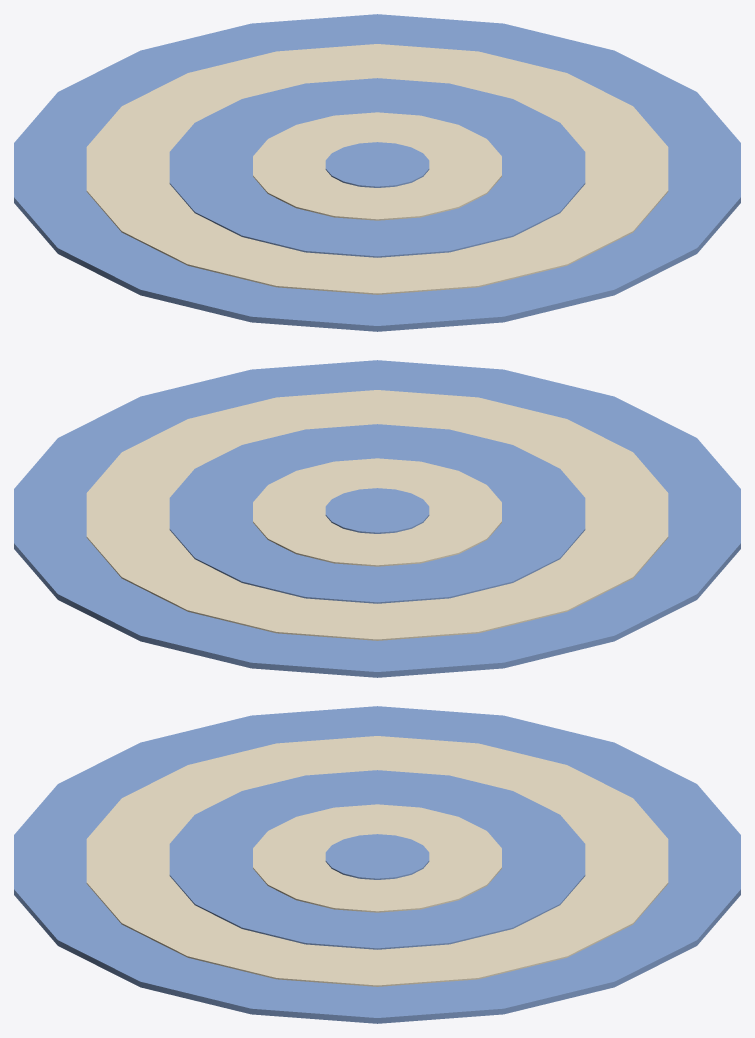
The model's file is rug_round.glb.
3 views of the same model, one above another, from view 1: azimuth 30°, elevation 25°; view 2: azimuth 150°, elevation 25°; view 3: azimuth 270°, elevation 25° (orthographic).
Visible parts, largest first — view 1: rug_round; view 2: rug_round; view 3: rug_round.
Part boxes in pixels (left/top/right/bottom): rug_round: left=14, top=14, right=740, bottom=331; rug_round: left=14, top=360, right=740, bottom=677; rug_round: left=14, top=706, right=740, bottom=1023.
Bounding box in the file's own units: 1.4 × 0.024 × 1.38.
Materials: 1 (1 with a texture image).
